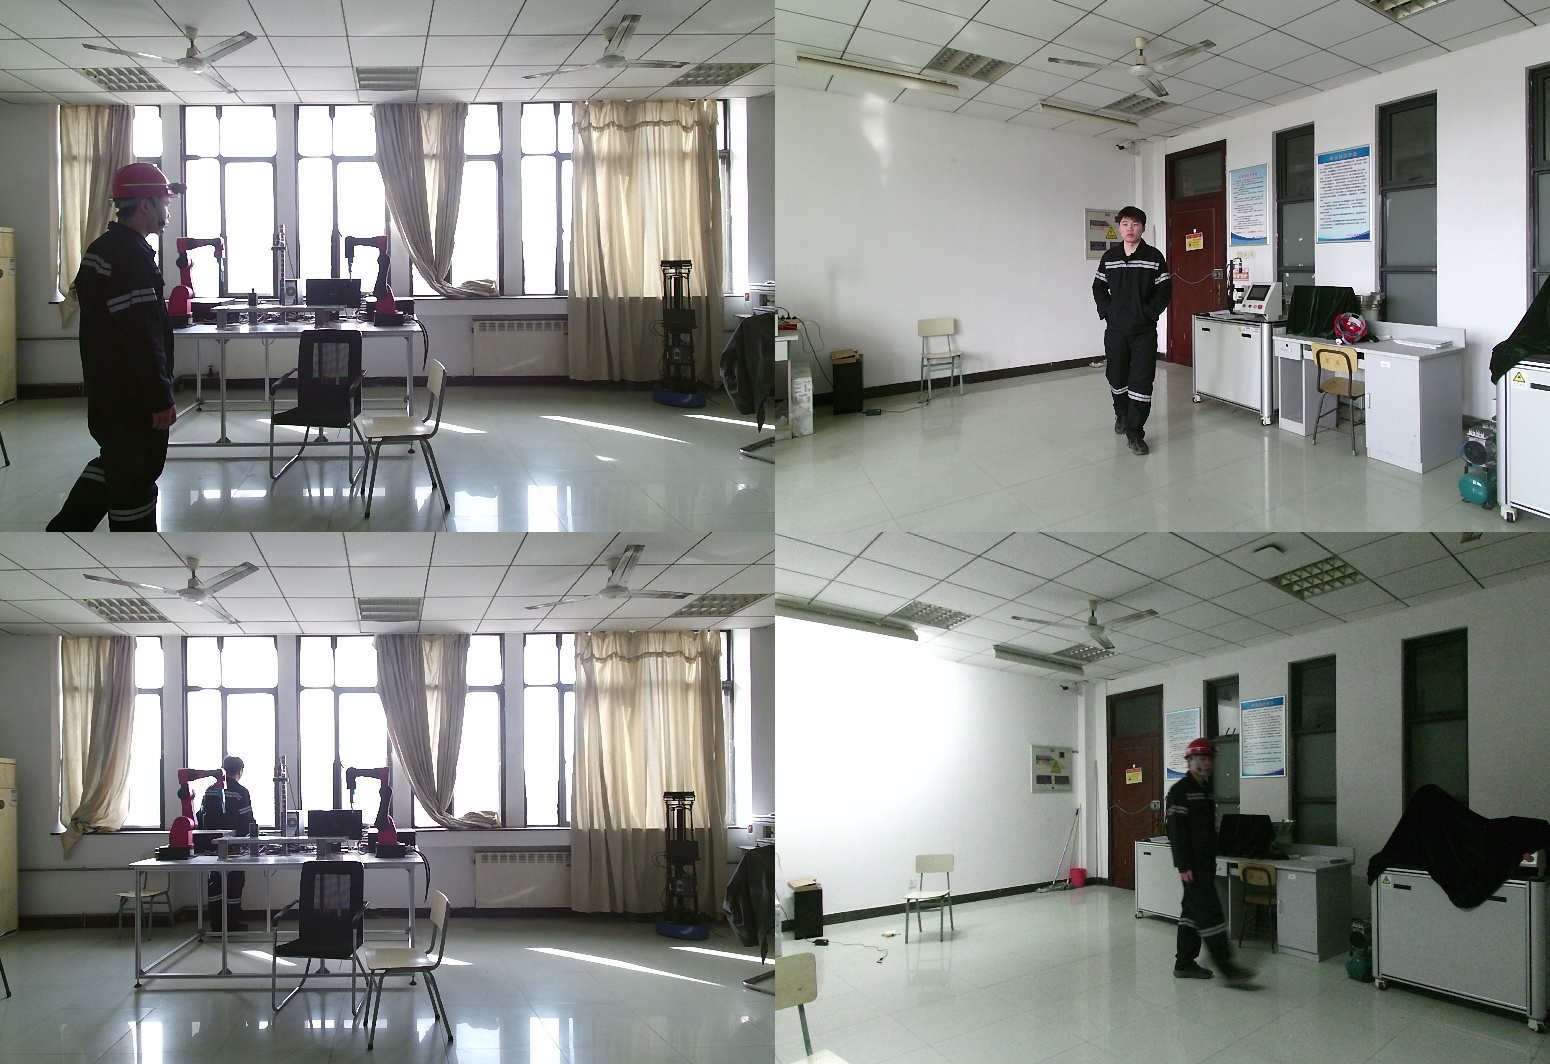person: (46, 163, 190, 532), (1090, 207, 1177, 454), (1158, 739, 1226, 981), (198, 760, 254, 949)
